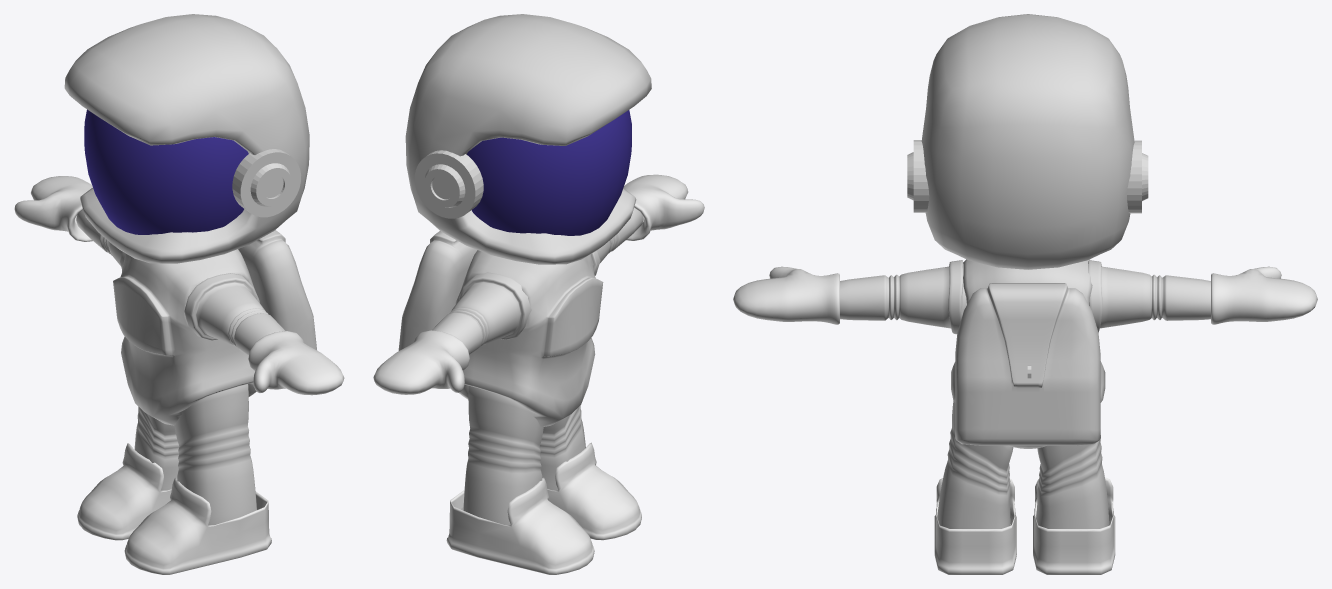
The picture shows the model from 3 angles, left to right: view 1: azimuth 30°, elevation 25°; view 2: azimuth 150°, elevation 25°; view 3: azimuth 270°, elevation 25°; orthographic projection. The views are drawn at different scales.
Parts seen in each view (by area): view 1: Cylinder.001; view 2: Cylinder.001; view 3: Cylinder.001.
Boxes of the visible parts, bbox=[...] form: Cylinder.001: bbox=[14, 14, 344, 574]; Cylinder.001: bbox=[373, 14, 704, 574]; Cylinder.001: bbox=[733, 14, 1317, 574].
Bounding box in the file's own units: 2.73 × 6.19 × 6.37.
